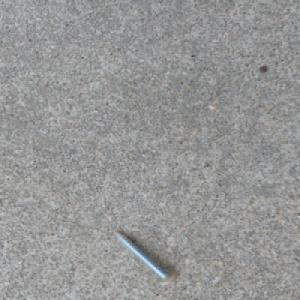Screw: (112, 229, 179, 285)
